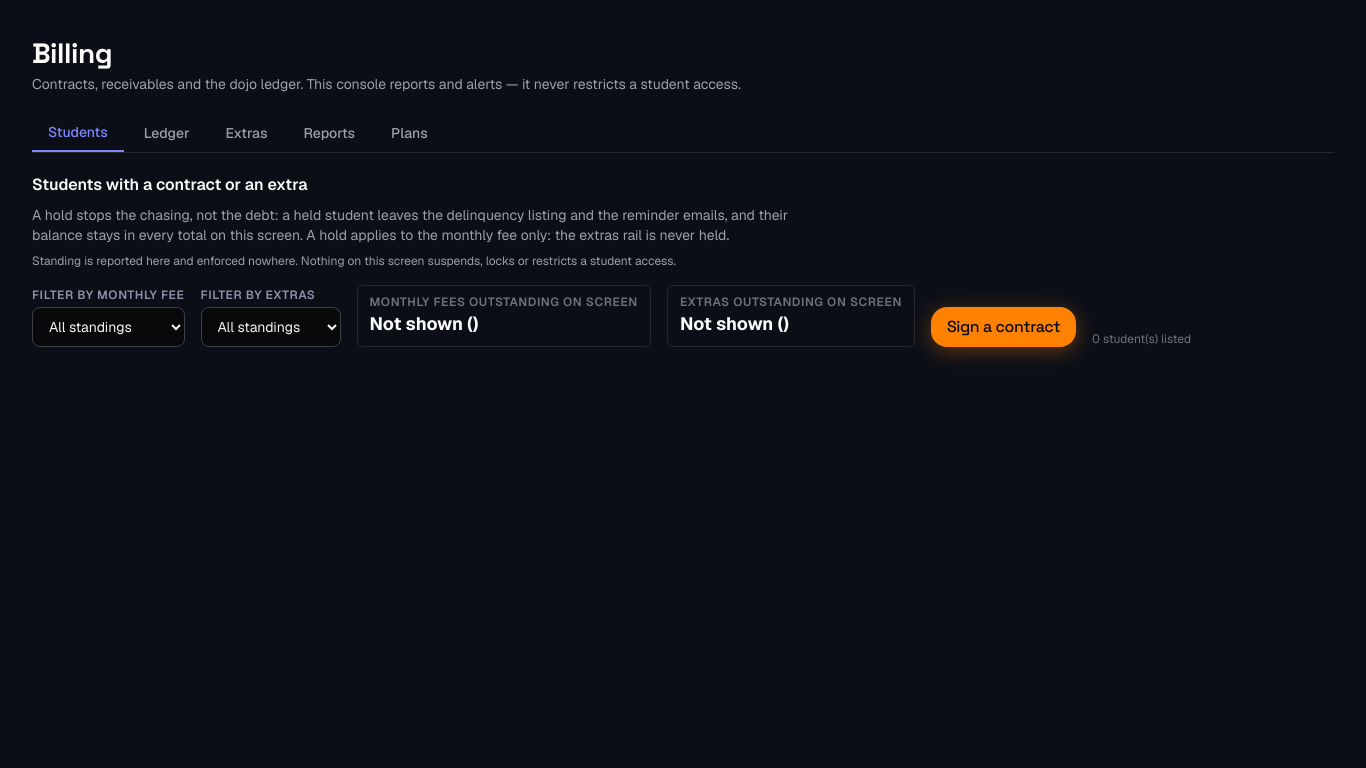
Scenario: AdminBillingPage › switches tabs on click
Click the tab "Ledger": click(167, 133) [128,114,206,152]
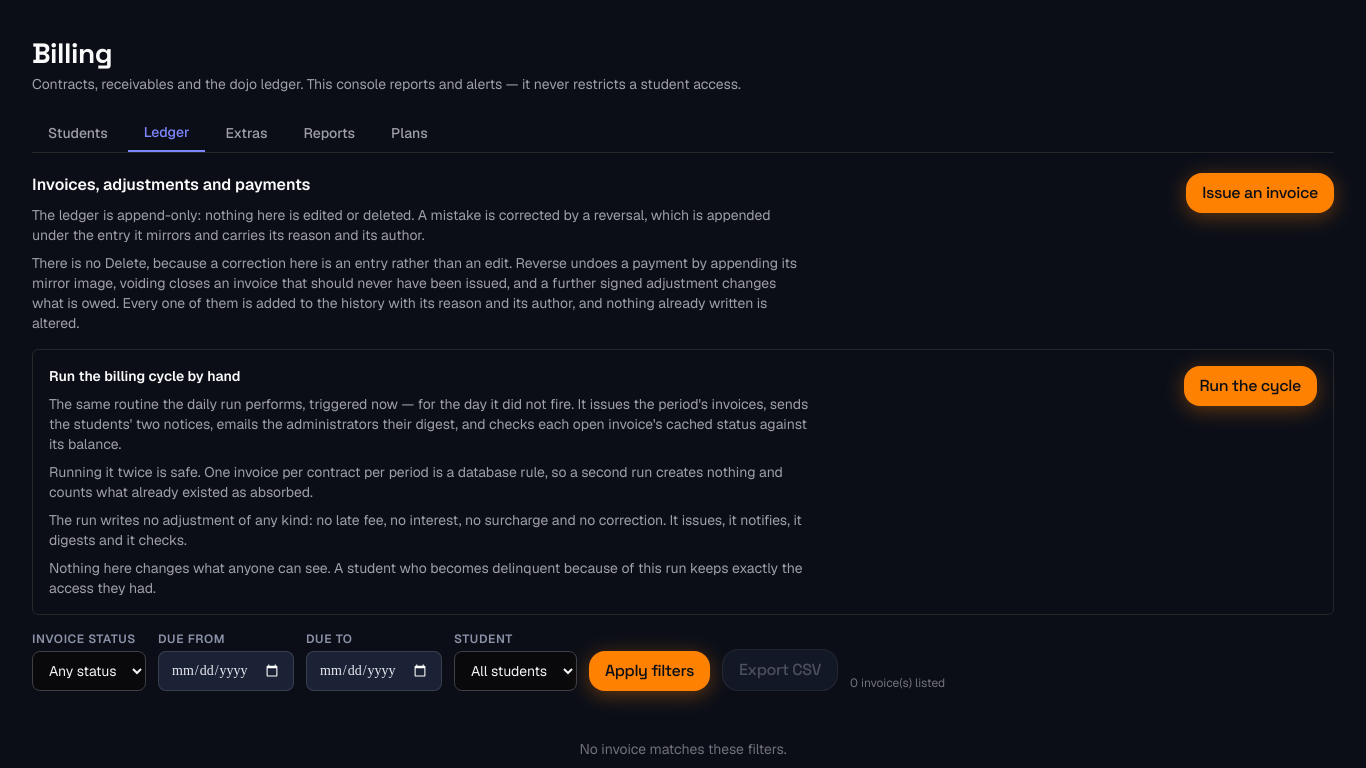
Expected: the text "The ledger is append-only: nothing here is edited or deleted. A mistake is corrected by a reversal, which is appended un" is shown, [32,206,771,244]
